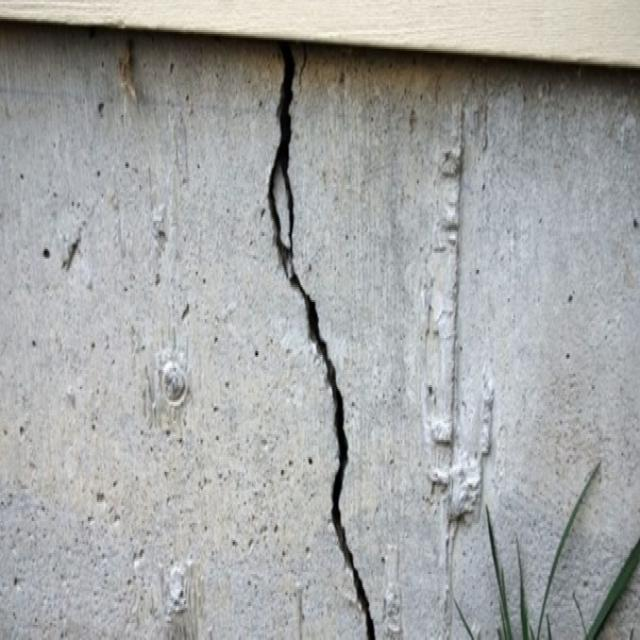Crack: (265, 42, 375, 638)
